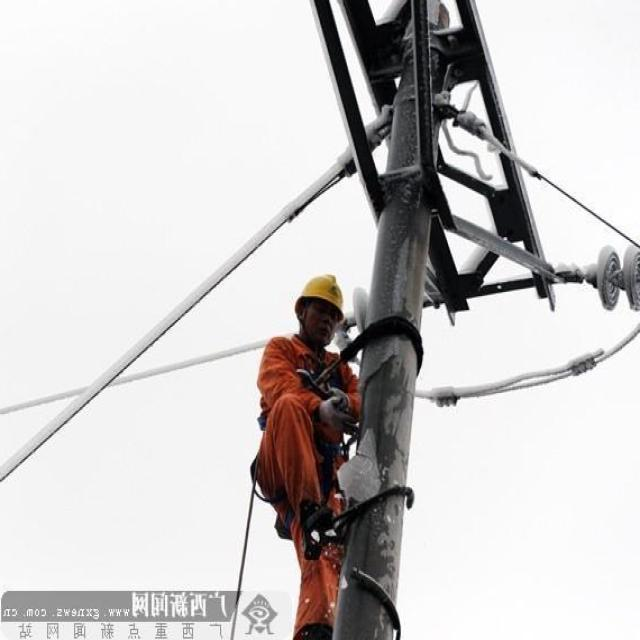helmet: (289, 264, 344, 316)
